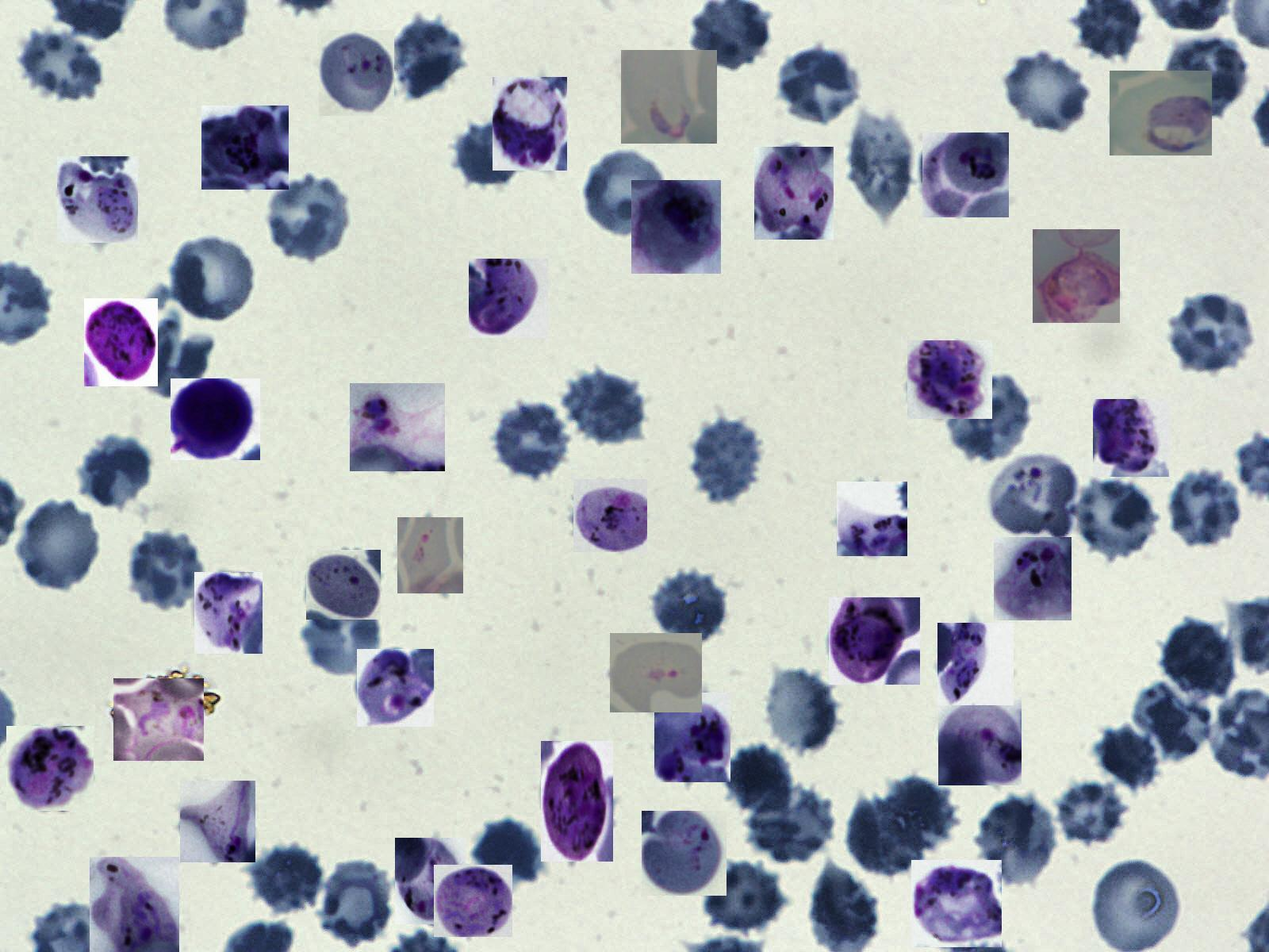Infected: (621, 50, 717, 144), (541, 741, 613, 862), (1110, 71, 1212, 155), (631, 180, 721, 274), (90, 857, 179, 952), (350, 383, 445, 471), (1033, 229, 1120, 323), (829, 597, 920, 685), (987, 453, 1077, 541), (911, 860, 1002, 947), (113, 678, 204, 761), (754, 147, 834, 240), (7, 727, 94, 812), (922, 132, 1009, 217), (201, 106, 289, 190), (938, 697, 1022, 785), (171, 378, 260, 460), (610, 633, 702, 712), (642, 811, 727, 896), (57, 156, 138, 243), (493, 77, 567, 171), (654, 693, 730, 782), (907, 340, 992, 419), (84, 298, 158, 386), (994, 537, 1072, 620), (319, 30, 394, 116), (937, 623, 1014, 705), (469, 259, 548, 338), (395, 838, 466, 924), (180, 781, 255, 862), (357, 649, 434, 727), (1093, 399, 1169, 477), (194, 572, 263, 654), (434, 865, 512, 937), (573, 479, 647, 552), (306, 550, 381, 620), (837, 482, 907, 556), (397, 517, 463, 593)
Uninfected: (1091, 859, 1181, 952), (169, 232, 259, 322), (17, 496, 102, 591), (1000, 48, 1095, 133), (581, 147, 671, 236), (1160, 34, 1248, 123), (1069, 477, 1160, 561), (1166, 290, 1257, 372), (14, 26, 109, 104), (945, 374, 1034, 457), (747, 782, 837, 864), (975, 794, 1055, 886), (776, 44, 862, 128), (268, 175, 352, 259), (762, 664, 840, 754), (846, 113, 913, 216), (319, 858, 396, 947), (304, 592, 385, 676), (1134, 679, 1214, 763), (849, 795, 930, 877), (126, 528, 205, 612), (389, 16, 467, 98), (650, 567, 729, 647), (491, 401, 572, 479), (1164, 617, 1236, 703), (881, 774, 959, 851), (690, 420, 764, 501), (703, 863, 788, 933), (79, 433, 155, 511), (1169, 468, 1244, 547), (565, 373, 646, 445), (245, 844, 320, 918), (1052, 780, 1129, 849), (724, 743, 794, 816), (453, 121, 525, 189), (473, 816, 542, 885), (1095, 724, 1164, 792)
